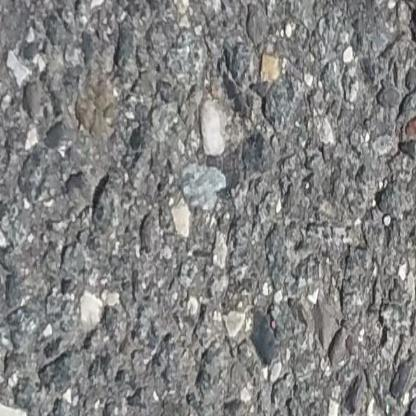Cracks: (319, 0, 416, 53), (276, 0, 307, 7)
